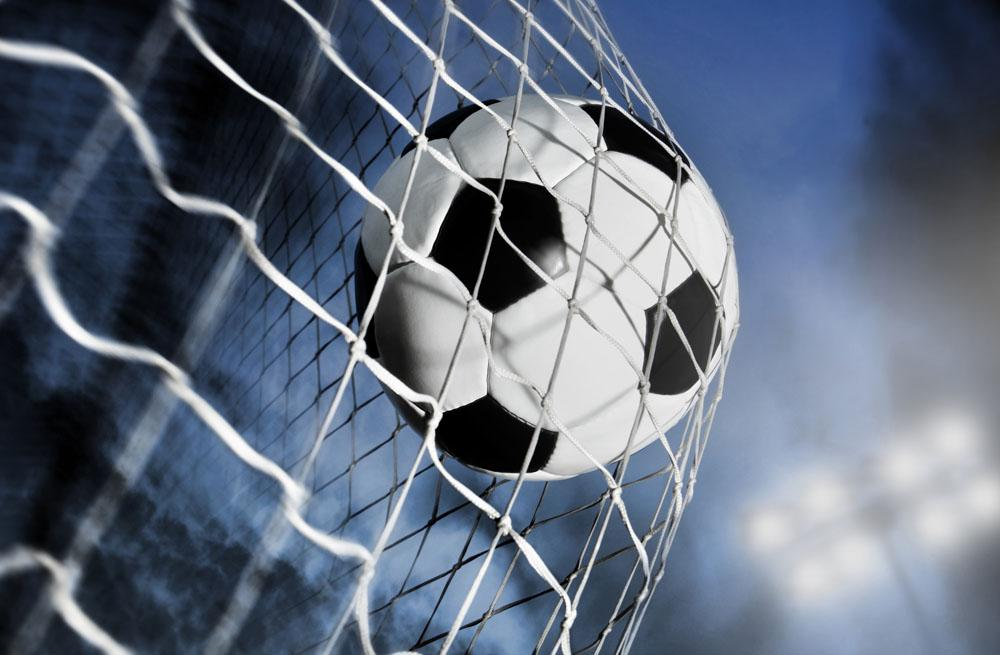football: (357, 96, 757, 496)
